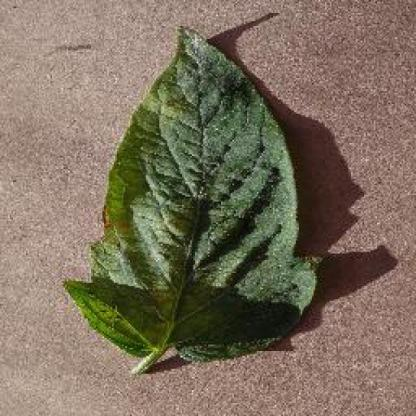Tomato_Spider_Mites: (65, 28, 320, 358)
